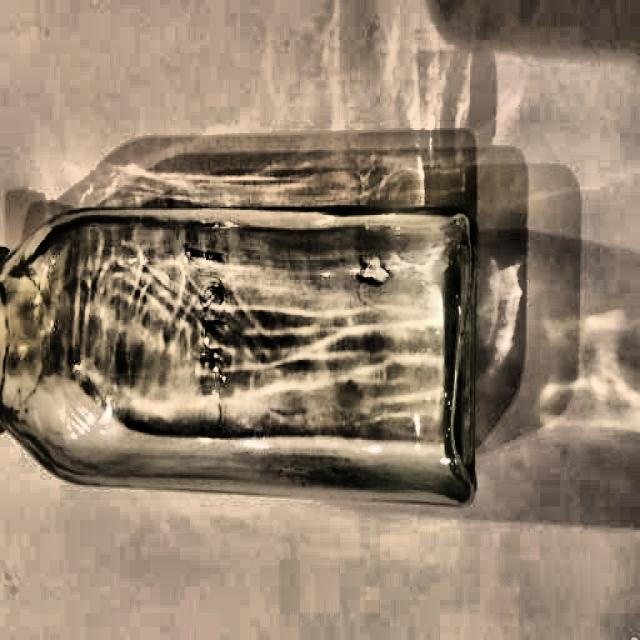glass: (0, 198, 479, 512)
